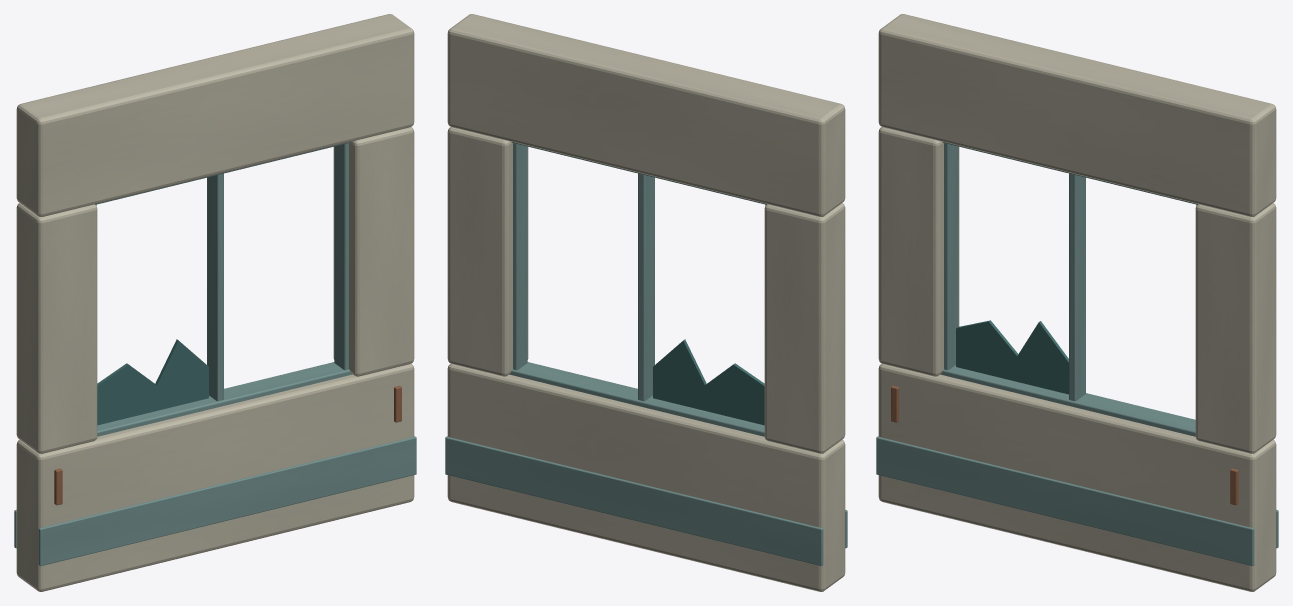
Rendered from Wall_Window_4m.glb.
The picture shows the model from 3 angles, left to right: view 1: azimuth 30°, elevation 25°; view 2: azimuth 150°, elevation 25°; view 3: azimuth 330°, elevation 25°; orthographic projection.
Parts seen in each view (by area): view 1: Wall_Window_4m; view 2: Wall_Window_4m; view 3: Wall_Window_4m.
Part boxes in pixels (x1,y1,x2,y2): Wall_Window_4m: [14, 14, 416, 591]; Wall_Window_4m: [445, 14, 847, 591]; Wall_Window_4m: [876, 14, 1278, 591].
Size of the model in its own units: 4 by 4.8 by 0.4985.
Materials: 4 (3 with a texture image).
